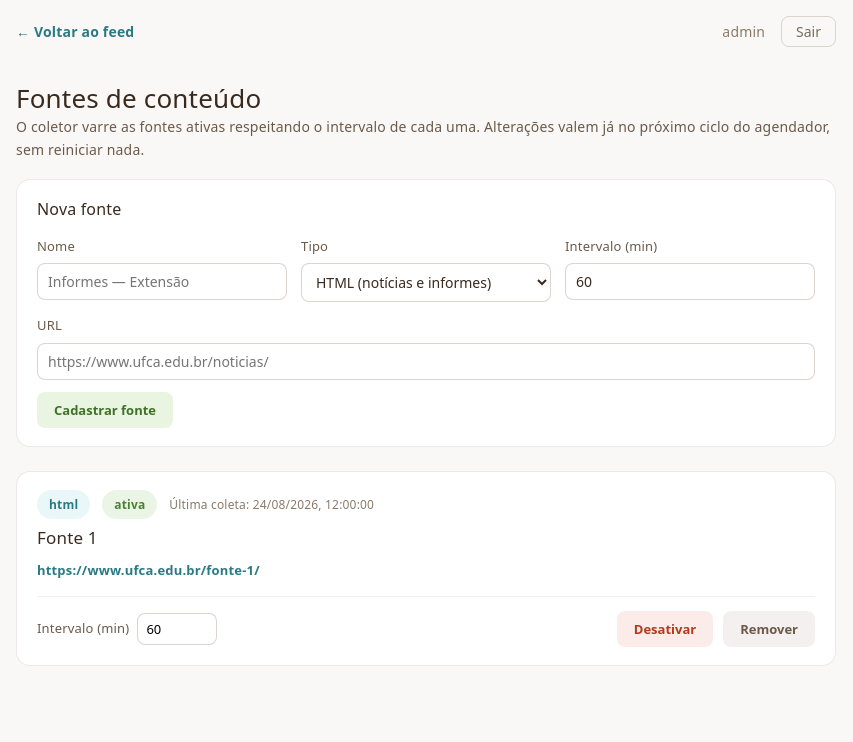
Scenario: Fontes — edição › explica que fonte com conteúdo não pode ser removida
The image size is (853, 742).
Expected: the heading "Fonte 1" is shown, [37,526,98,549]
Click the button "Remover": [769, 629] box [723,611,815,647]
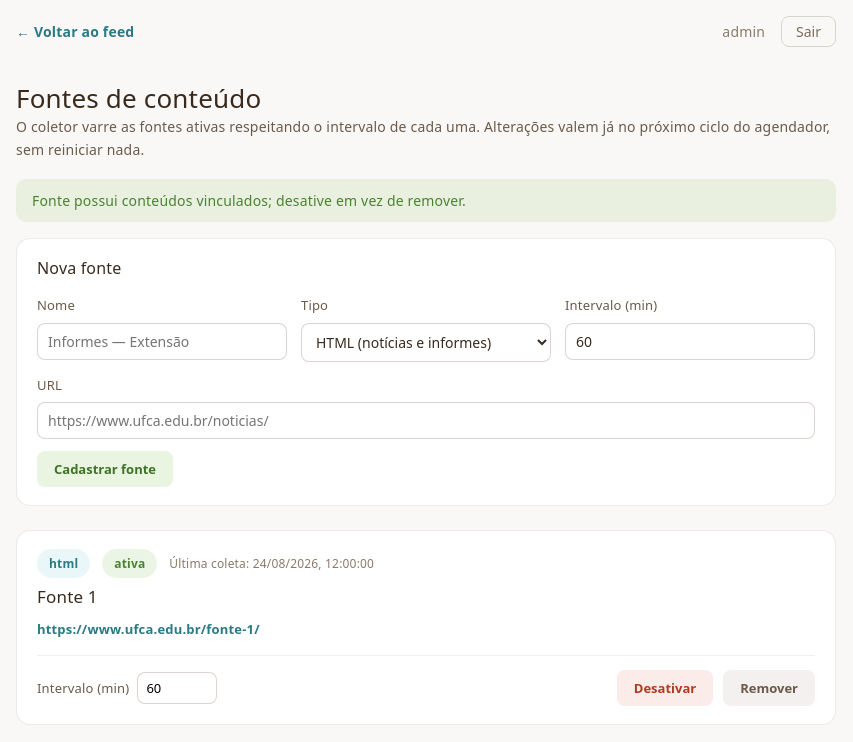
Expected: the heading "Fonte 1" is shown, [37,585,98,608]
Result: the message shows "desative em vez de remover" at [32,191,466,210]
